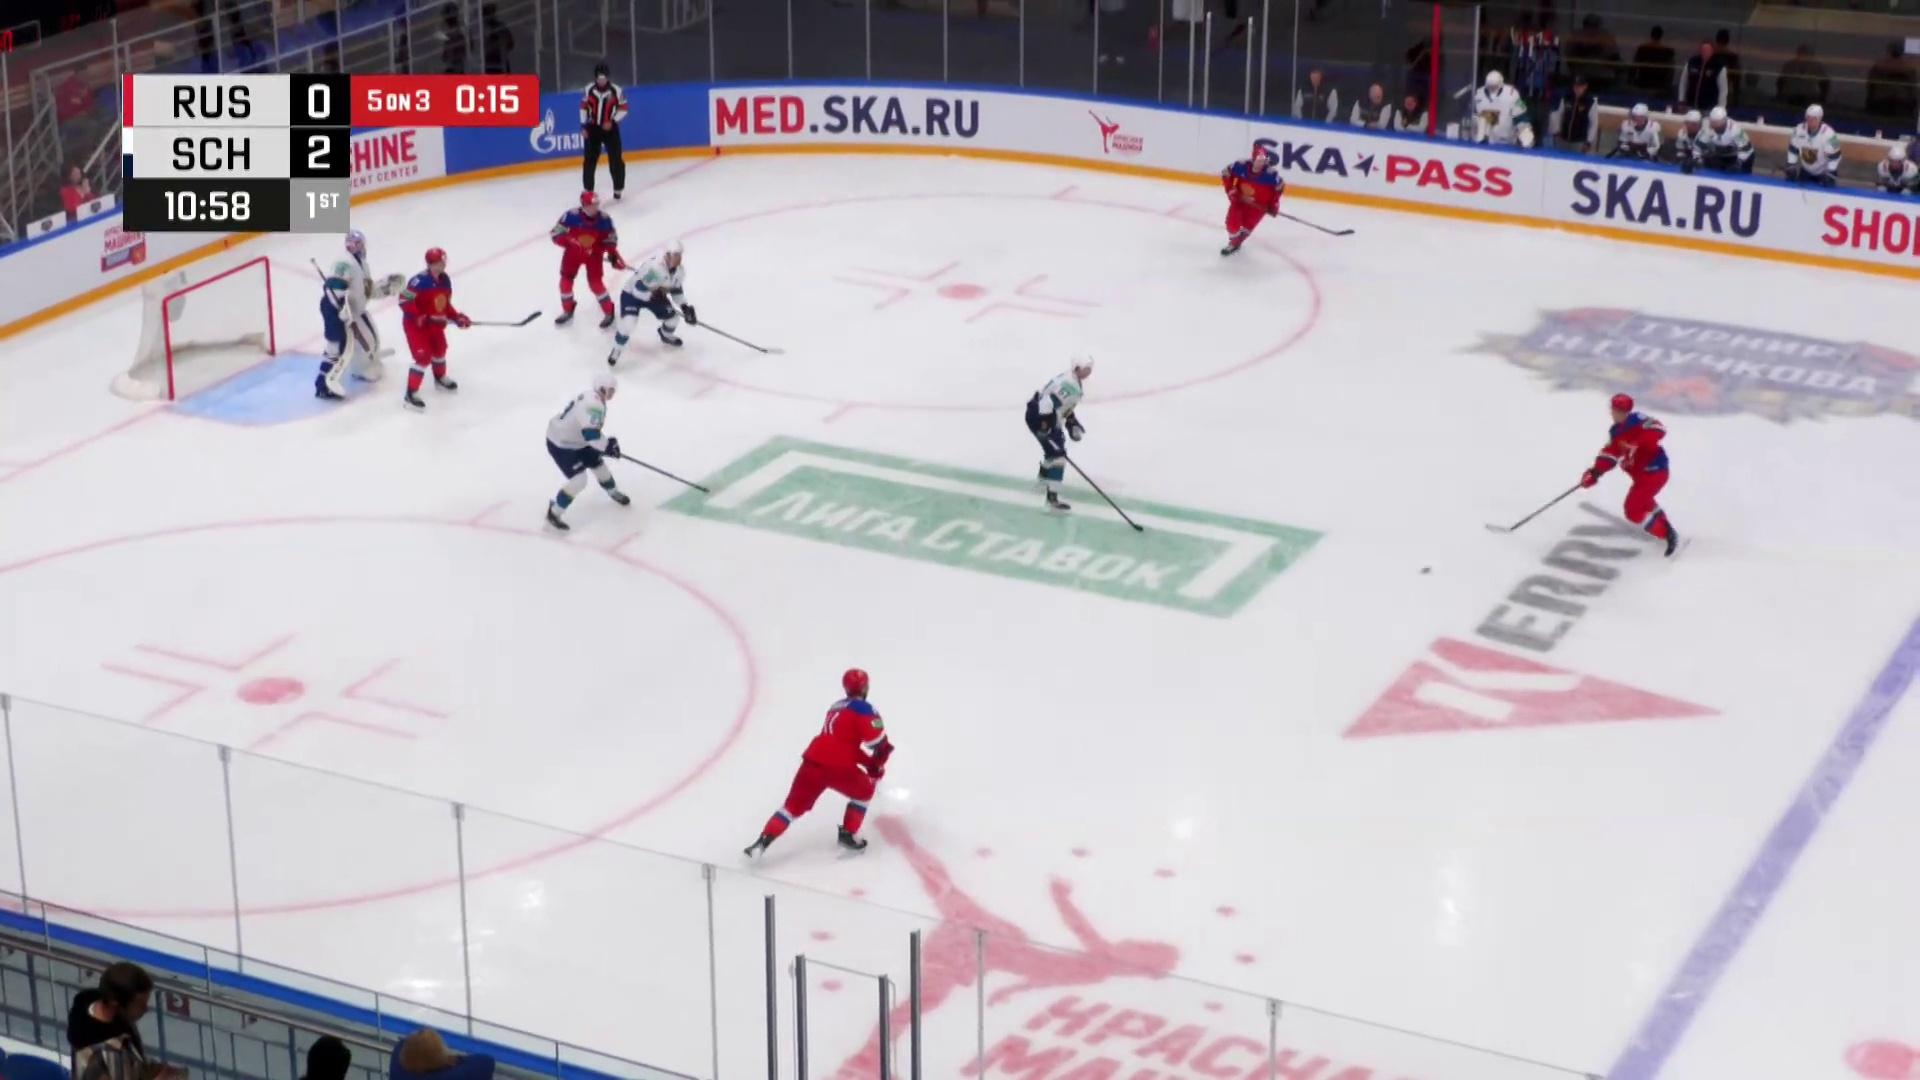ball: (1420, 567, 1433, 576)
